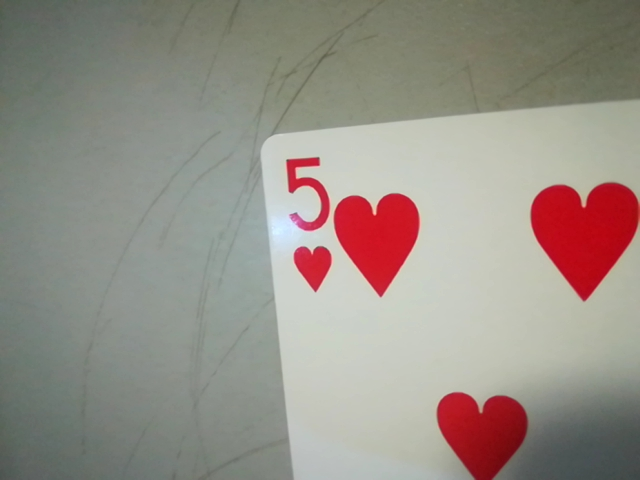hx 5: (271, 143, 337, 300)
